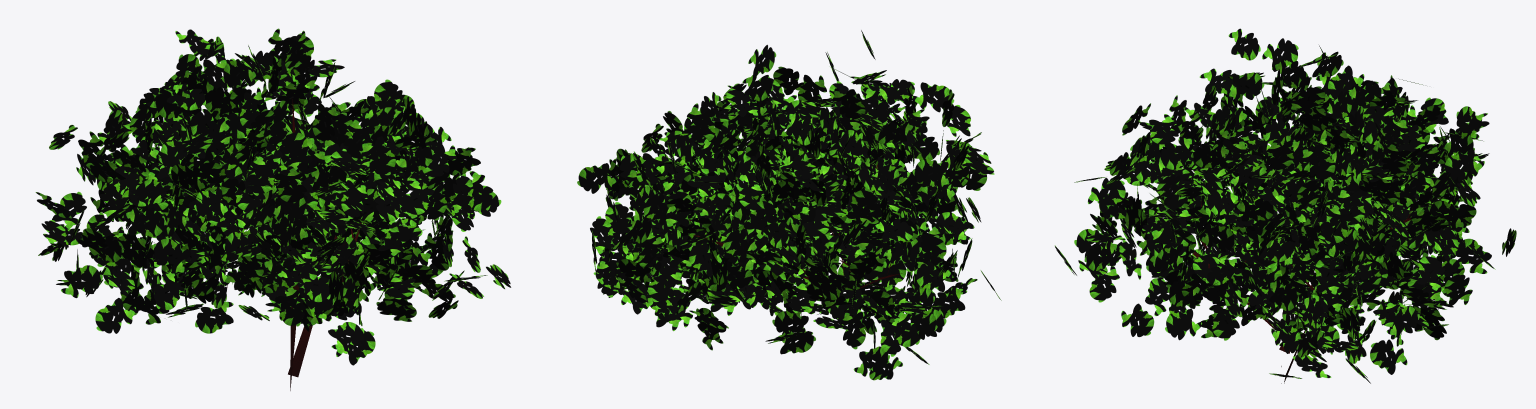
Rendered from understory_laurel_v01_LOD2.glb.
3 views of the same model, side by side, from view 1: azimuth 30°, elevation 25°; view 2: azimuth 150°, elevation 25°; view 3: azimuth 270°, elevation 25° (orthographic). The views are drawn at different scales.
Parts seen in each view (by area): view 1: understory_laurel_v01_LOD2; view 2: understory_laurel_v01_LOD2; view 3: understory_laurel_v01_LOD2.
Boxes of the visible parts, box(x1,y1,x2,y2) form: understory_laurel_v01_LOD2: box(35, 28, 511, 390); understory_laurel_v01_LOD2: box(577, 30, 1001, 380); understory_laurel_v01_LOD2: box(1054, 28, 1516, 383).
Size of the model in its own units: 8.58 by 6.03 by 8.39.
Materials: 2 (2 with a texture image).
